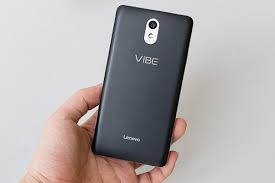lenovo: (90, 2, 195, 166)
